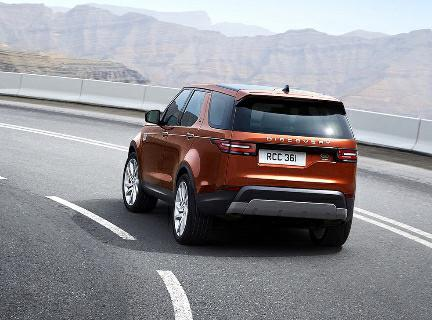路虎-揽胜运动版: (117, 78, 365, 260)
